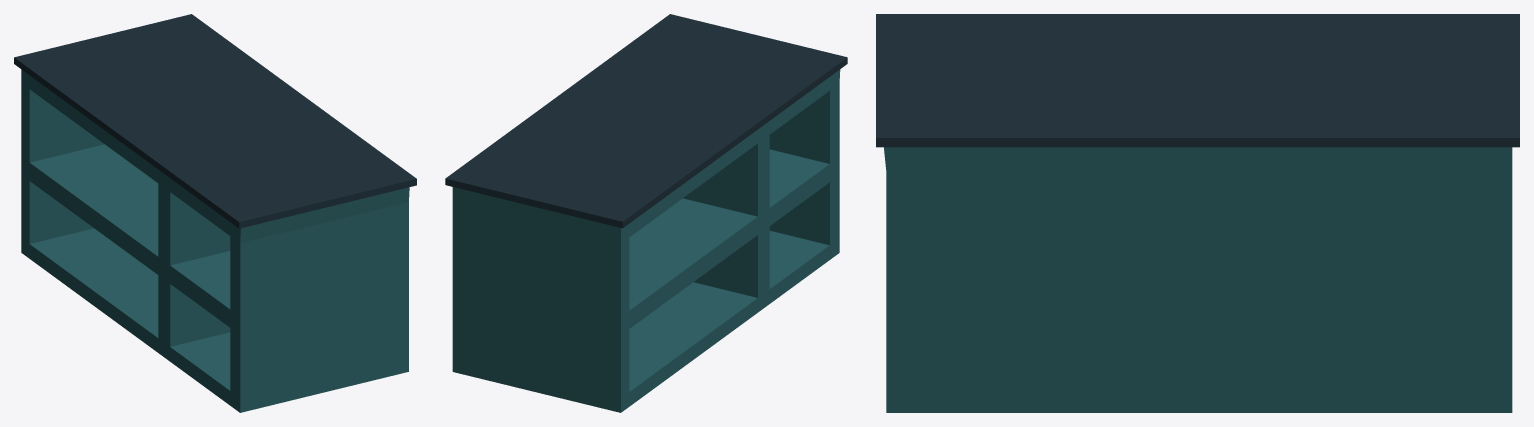
The model's file is Interior_Shelf_Entertainment_Blue.fbx.
3 renders of one model, left to right at view 1: azimuth 30°, elevation 25°; view 2: azimuth 150°, elevation 25°; view 3: azimuth 270°, elevation 25°, orthographic. The views are drawn at different scales.
Visible parts, largest first — view 1: Cube.233; view 2: Cube.233; view 3: Cube.233.
Boxes of the visible parts, bbox=[...] form: Cube.233: bbox=[14, 14, 416, 412]; Cube.233: bbox=[445, 14, 847, 412]; Cube.233: bbox=[876, 14, 1519, 412].
Bounding box in the file's own units: 52.6 × 55 × 115.
